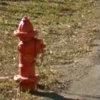Hydrant: (9, 10, 48, 100)
